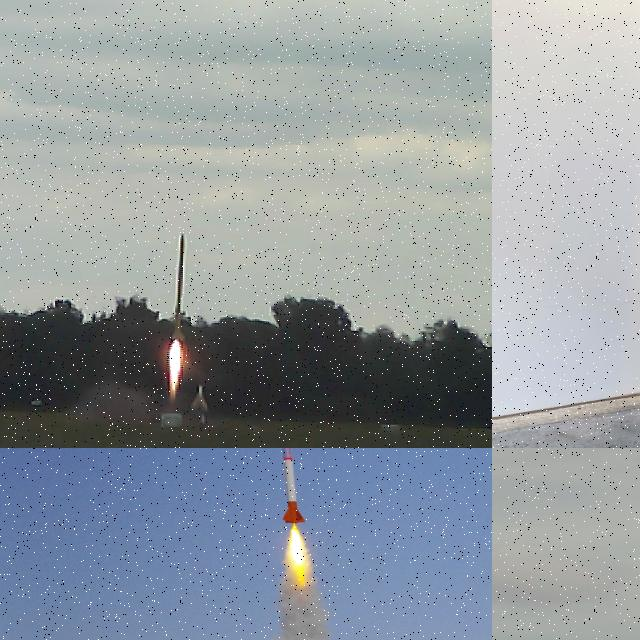Rocket: (280, 448, 305, 523), (171, 232, 188, 340), (189, 384, 209, 414)
